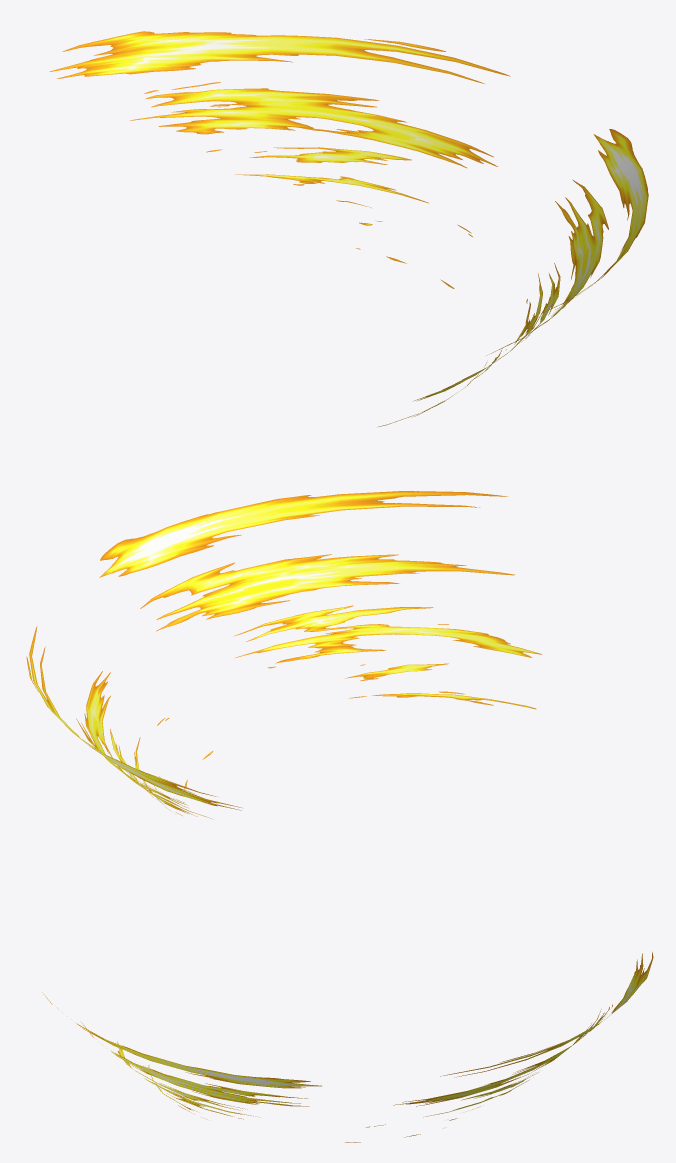
File: shanxinghu_1.FBX
The picture shows the model from 3 angles, top to bottom: view 1: azimuth 30°, elevation 25°; view 2: azimuth 150°, elevation 25°; view 3: azimuth 270°, elevation 25°; orthographic projection. The views are drawn at different scales.
Visible parts, largest first — view 1: shanxinghu_1; view 2: shanxinghu_1; view 3: shanxinghu_1.
Boxes of the visible parts, box(x1,y1,x2,y2) form: shanxinghu_1: box(49, 31, 648, 427); shanxinghu_1: box(26, 491, 541, 818); shanxinghu_1: box(42, 952, 653, 1142).
Bounding box in the file's own units: 85.52 × 35.36 × 155.
